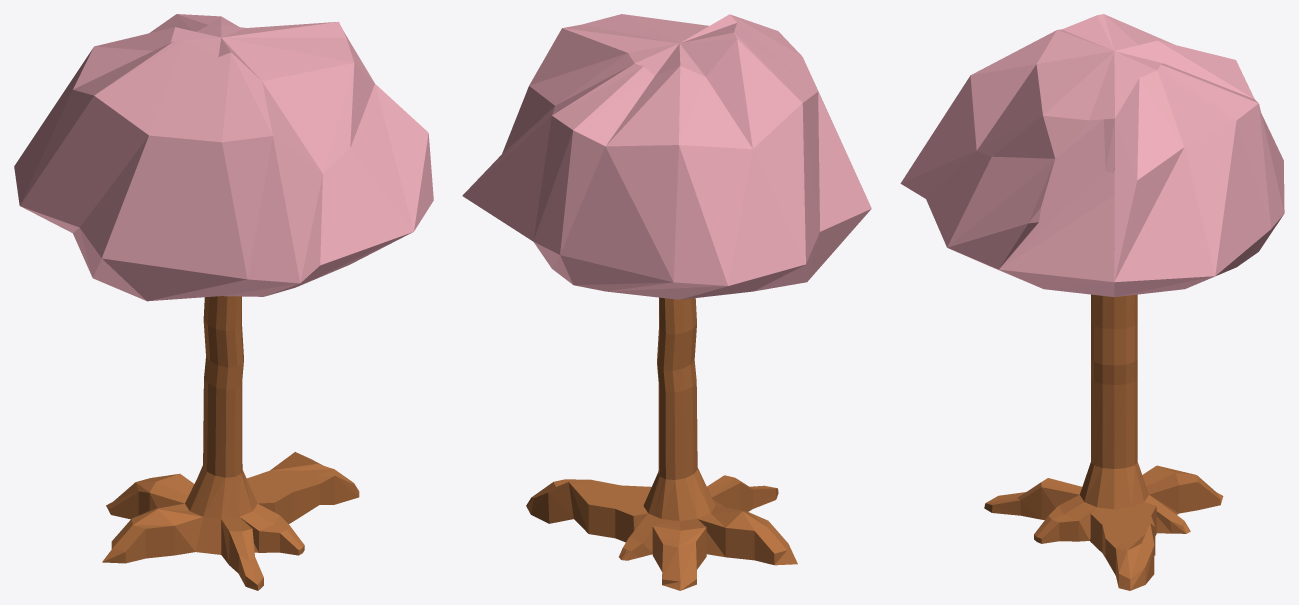
The model's file is small sakura tree model textured.fbx.
The picture shows the model from 3 angles, left to right: view 1: azimuth 30°, elevation 25°; view 2: azimuth 150°, elevation 25°; view 3: azimuth 270°, elevation 25°; orthographic projection. The views are drawn at different scales.
Visible parts, largest first — view 1: pCylinder1; view 2: pCylinder1; view 3: pCylinder1.
Boxes of the visible parts, box(x1,y1,x2,y2) form: pCylinder1: box(14, 14, 433, 590); pCylinder1: box(462, 14, 871, 590); pCylinder1: box(900, 14, 1284, 590).
Size of the model in its own units: 10.32 by 14.67 by 10.5.
